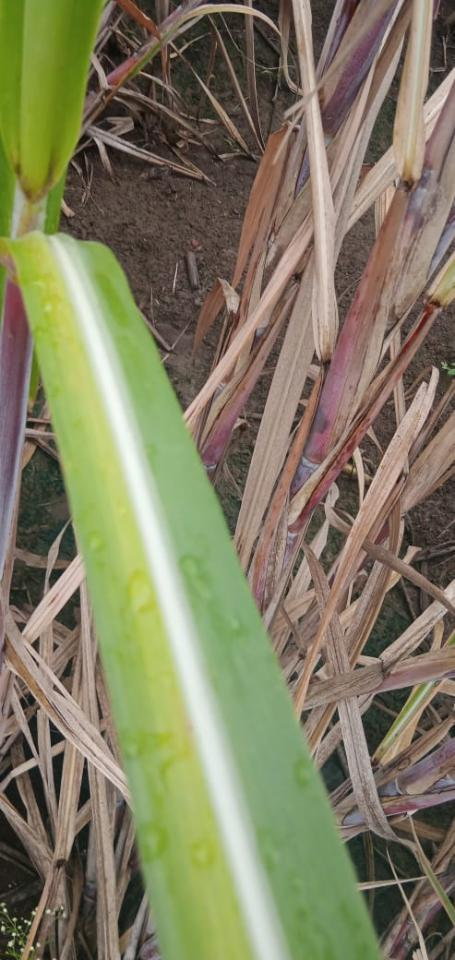Yellow: (25, 233, 255, 959)
